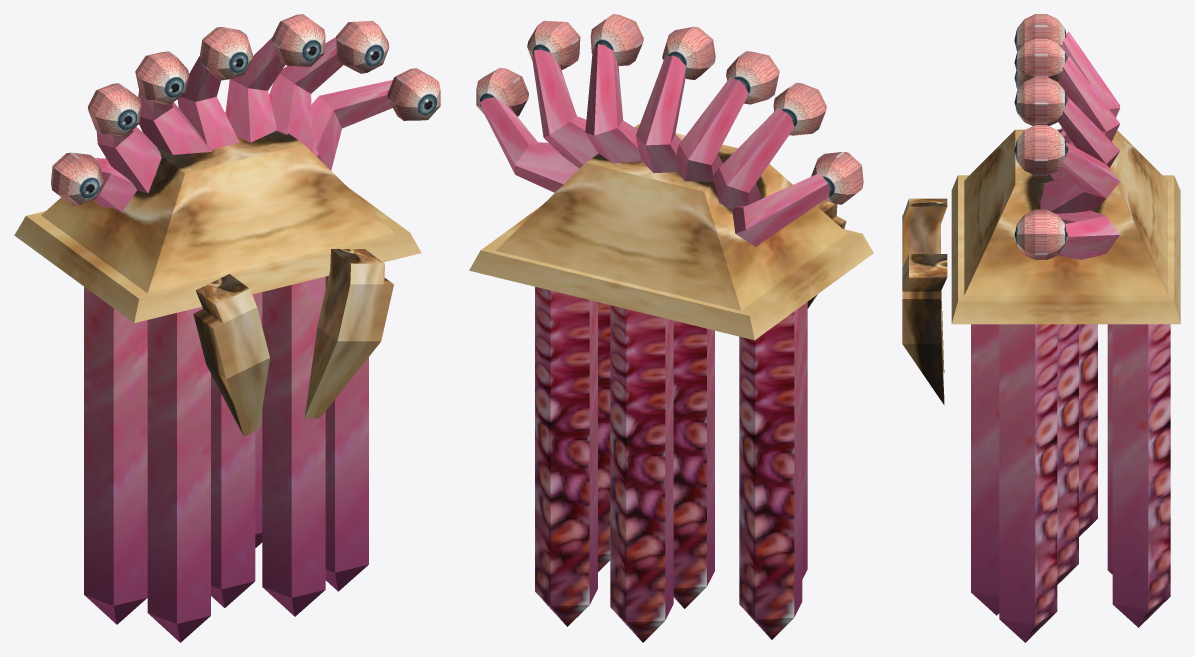
The model's file is mama.glb.
3 renders of one model, left to right at view 1: azimuth 30°, elevation 25°; view 2: azimuth 150°, elevation 25°; view 3: azimuth 270°, elevation 25°, orthographic. The views are drawn at different scales.
Visible parts, largest first — view 1: Cube, Cylinder.002, Cylinder, Cylinder.007, Cube.001, Cylinder.006, Cylinder.004, Cube.005, Cylinder.013, Cylinder.008, Cylinder.010, Cylinder.011 (+4 smaller); view 2: Cube, Cylinder.003, Cylinder.005, Cylinder, Cylinder.004, Cylinder.013, Cylinder.011, Cylinder.012, Cylinder.015, Cylinder.008, Cylinder.010, Cylinder.014 (+2 smaller); view 3: Cube, Cylinder.006, Cylinder.005, Cylinder.007, Cylinder.004, Cylinder.008, Cube.001, Cylinder.010, Cylinder.013, Cylinder, Cylinder.011, Cube.005 (+2 smaller).
Boxes of the visible parts, left/top/right/bottom form: Cube: left=14, top=112, right=421, bottom=323; Cylinder.002: left=147, top=307, right=210, bottom=642; Cylinder: left=84, top=287, right=147, bottom=624; Cylinder.007: left=262, top=276, right=325, bottom=616; Cube.001: left=304, top=249, right=393, bottom=418; Cylinder.006: left=325, top=276, right=368, bottom=591; Cylinder.004: left=211, top=294, right=255, bottom=607; Cube.005: left=193, top=274, right=269, bottom=436; Cylinder.013: left=225, top=14, right=325, bottom=142; Cylinder.008: left=269, top=20, right=389, bottom=152; Cylinder.010: left=311, top=68, right=440, bottom=170; Cylinder.011: left=177, top=27, right=253, bottom=149; Cube: left=469, top=124, right=873, bottom=340; Cylinder.003: left=610, top=305, right=673, bottom=642; Cylinder.005: left=535, top=287, right=597, bottom=626; Cylinder: left=739, top=306, right=802, bottom=639; Cylinder.004: left=673, top=320, right=714, bottom=608; Cylinder.013: left=585, top=14, right=643, bottom=163; Cylinder.011: left=636, top=26, right=715, bottom=172; Cylinder.012: left=712, top=82, right=826, bottom=209; Cylinder.015: left=676, top=51, right=779, bottom=181; Cylinder.008: left=527, top=20, right=598, bottom=168; Cylinder.010: left=476, top=67, right=578, bottom=192; Cylinder.014: left=732, top=151, right=863, bottom=246; Cube: left=951, top=129, right=1180, bottom=324; Cylinder.006: left=999, top=324, right=1057, bottom=642; Cylinder.005: left=1112, top=324, right=1170, bottom=627; Cylinder.007: left=971, top=324, right=999, bottom=615; Cylinder.004: left=1057, top=324, right=1078, bottom=584; Cylinder.008: left=1014, top=125, right=1119, bottom=213; Cube.001: left=902, top=254, right=947, bottom=404; Cylinder.010: left=1014, top=209, right=1119, bottom=259; Cylinder.013: left=1014, top=77, right=1119, bottom=179; Cylinder: left=1079, top=324, right=1097, bottom=536; Cylinder.011: left=1014, top=38, right=1119, bottom=147; Cube.005: left=902, top=198, right=947, bottom=372.
Size of the model in its own units: 15.8 by 23.07 by 10.46.
1 material, 1 textured.
